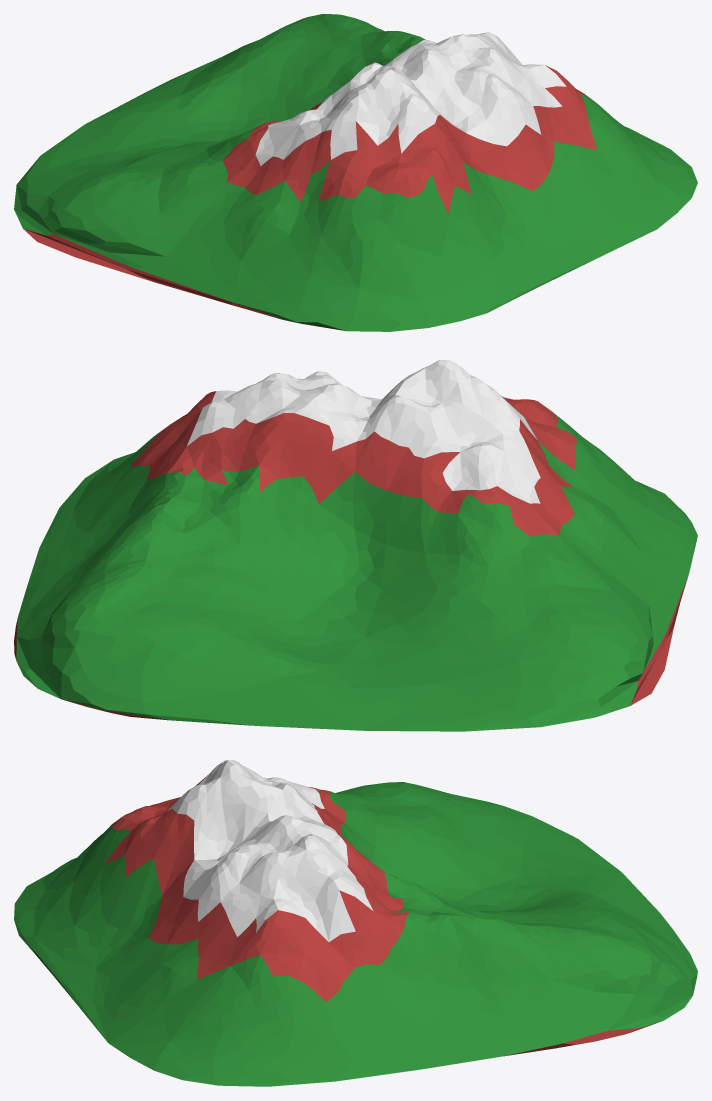
File: test enviro for kait.fbx
3 views of the same model, one above another, from view 1: azimuth 30°, elevation 25°; view 2: azimuth 150°, elevation 25°; view 3: azimuth 270°, elevation 25° (orthographic). The views are drawn at different scales.
Parts seen in each view (by area): view 1: Landscape.003; view 2: Landscape.003; view 3: Landscape.003.
Boxes of the visible parts, bbox=[...] form: Landscape.003: bbox=[14, 14, 697, 331]; Landscape.003: bbox=[14, 360, 697, 731]; Landscape.003: bbox=[14, 760, 697, 1086].
Bounding box in the file's own units: 480 × 138 × 480.
